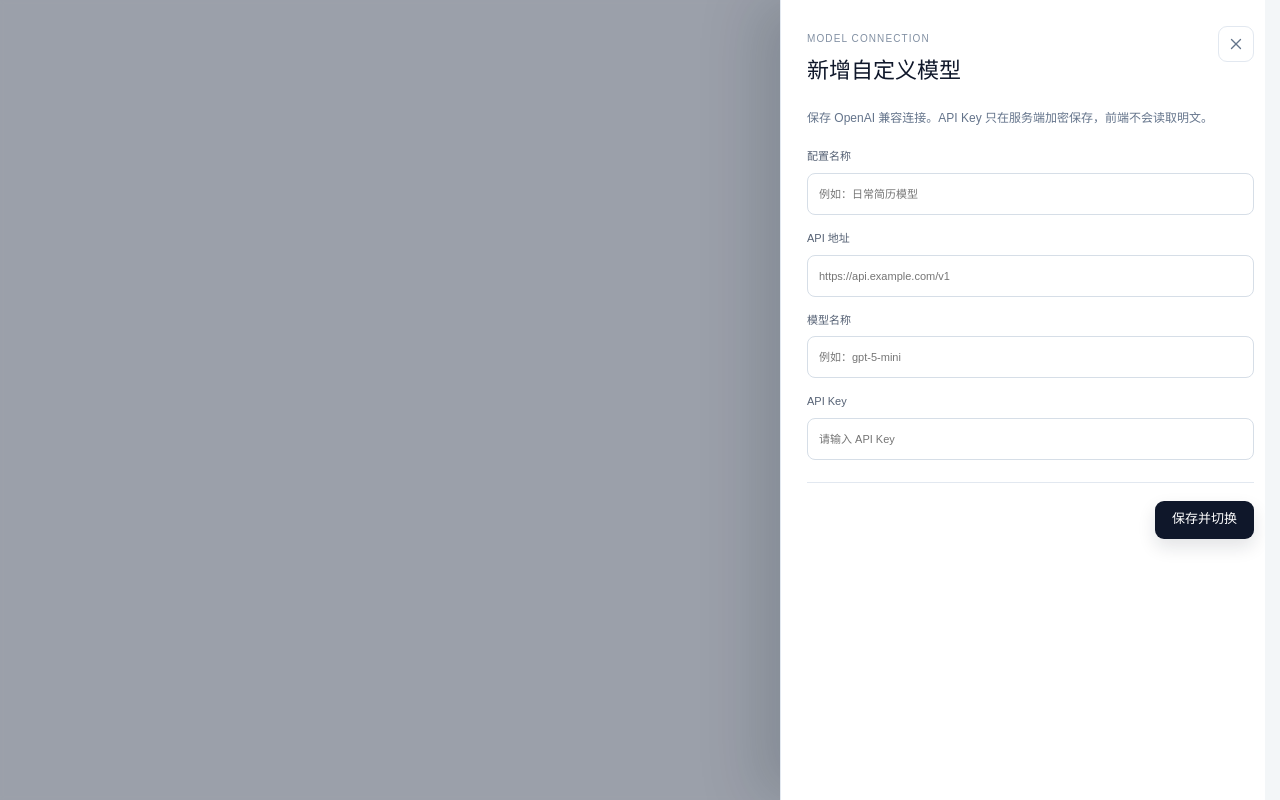
Scenario: ModelProfileDrawer › shows a server field error next to the form
Type "不安全模型" into the field labelled "配置名称". click: point(1030, 194)
box: left=807, top=173, right=1254, bottom=215
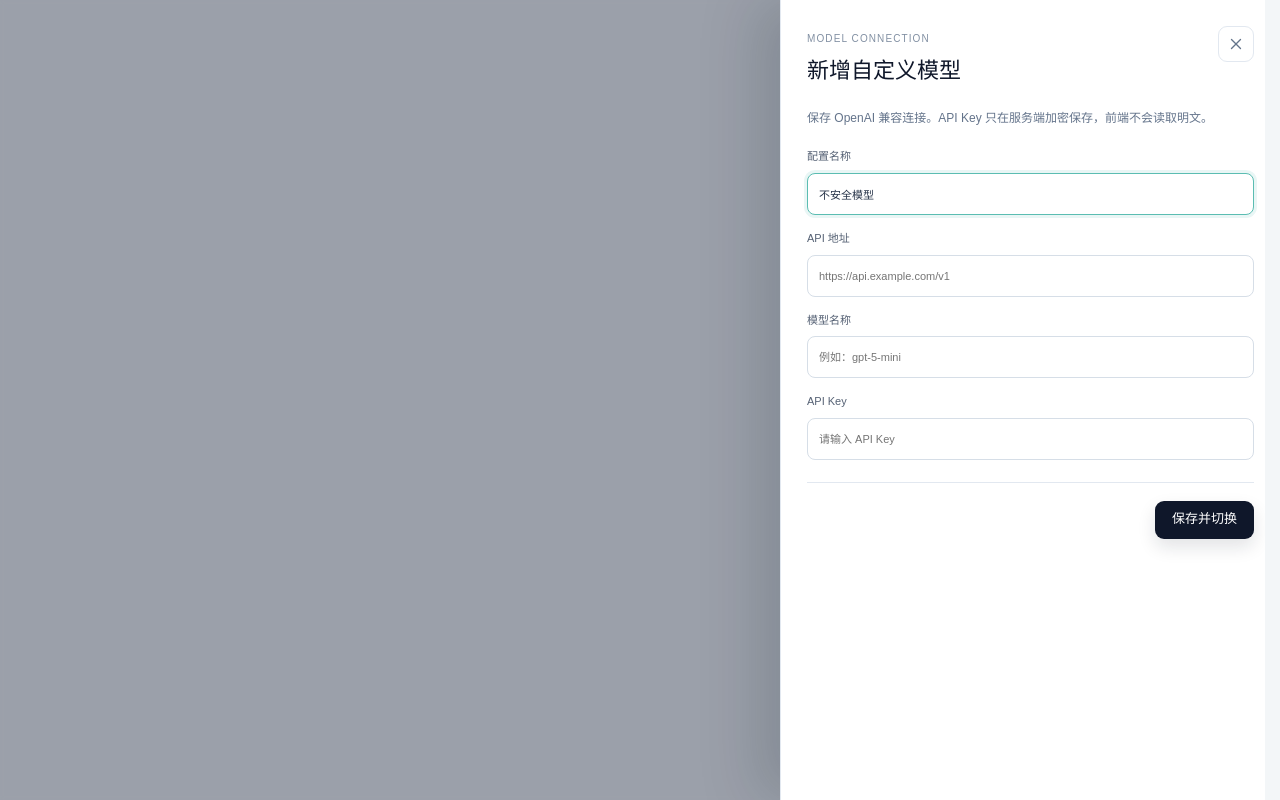
Type "http://localhost:8000/v1" into the field labelled "API 地址". click: point(1030, 276)
box: left=807, top=255, right=1254, bottom=297
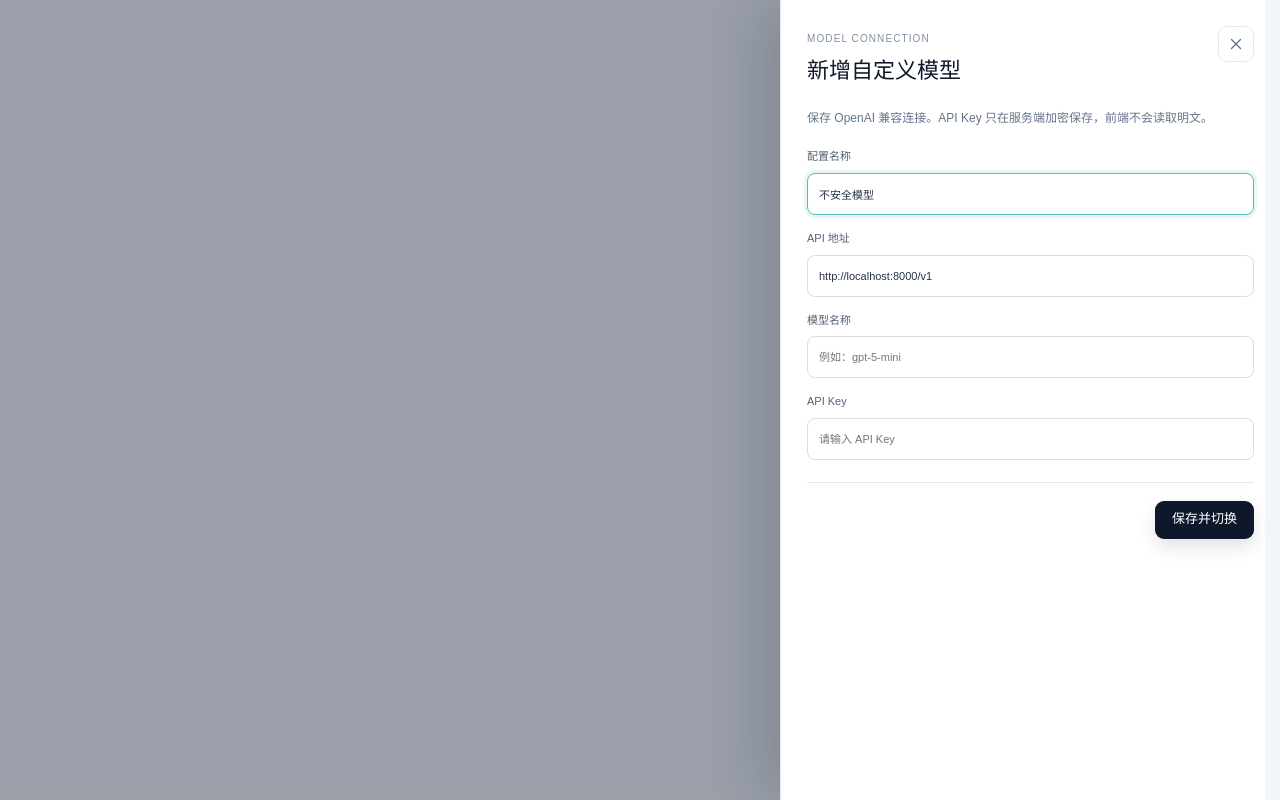
Type "local" into the field labelled "模型名称". click: point(1030, 357)
box: left=807, top=336, right=1254, bottom=378
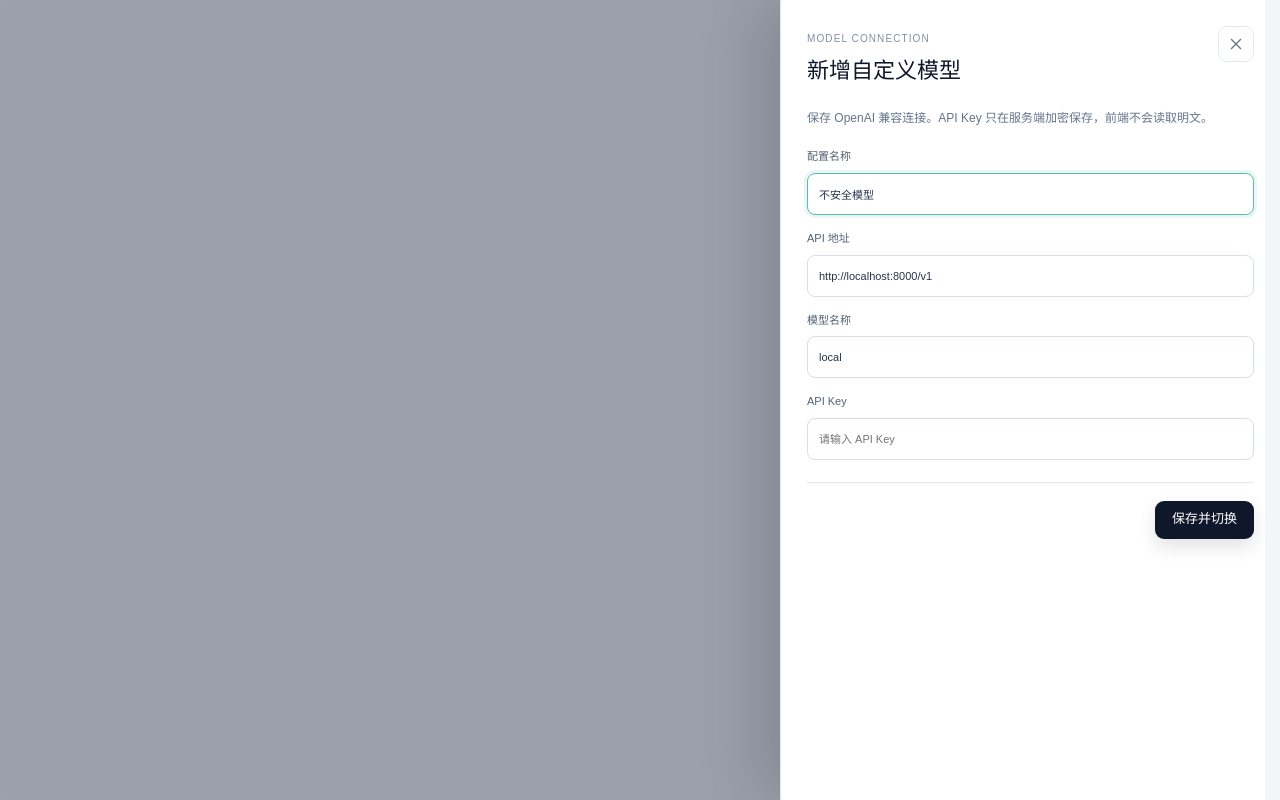
Type "sk-secret-123456" into the password field labelled "API Key". click: point(1030, 439)
box: left=807, top=418, right=1254, bottom=460
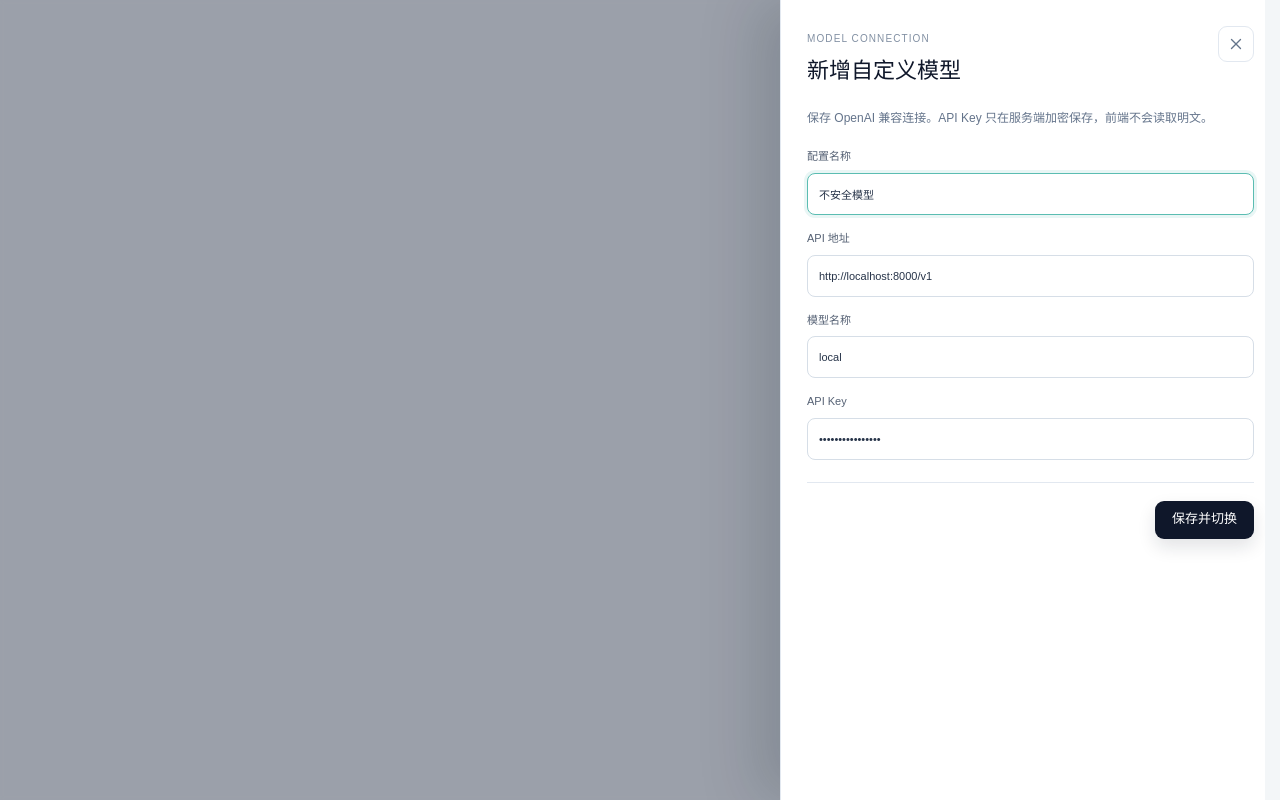
Submit the form, box left=807, top=148, right=1254, bottom=460
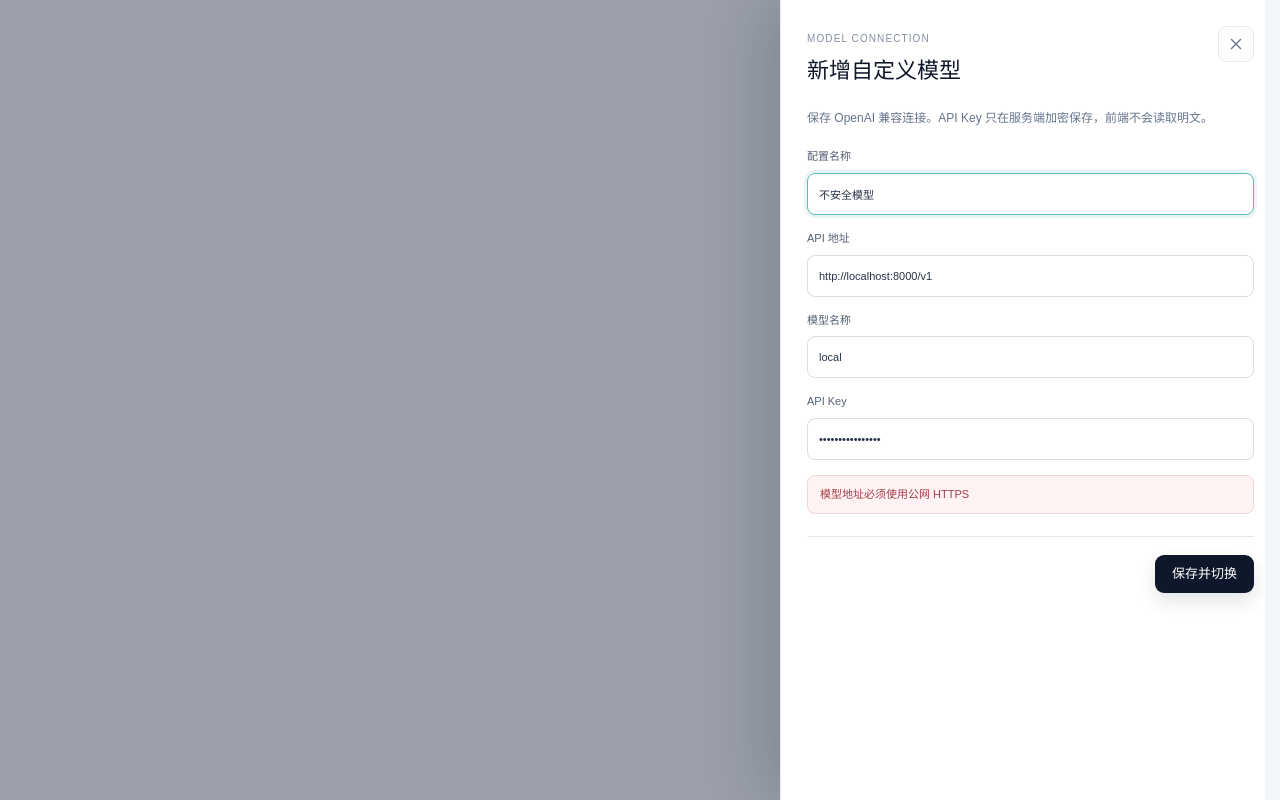
Expected: the message "模型地址必须使用公网 HTTPS" is shown, left=807, top=475, right=1254, bottom=514
